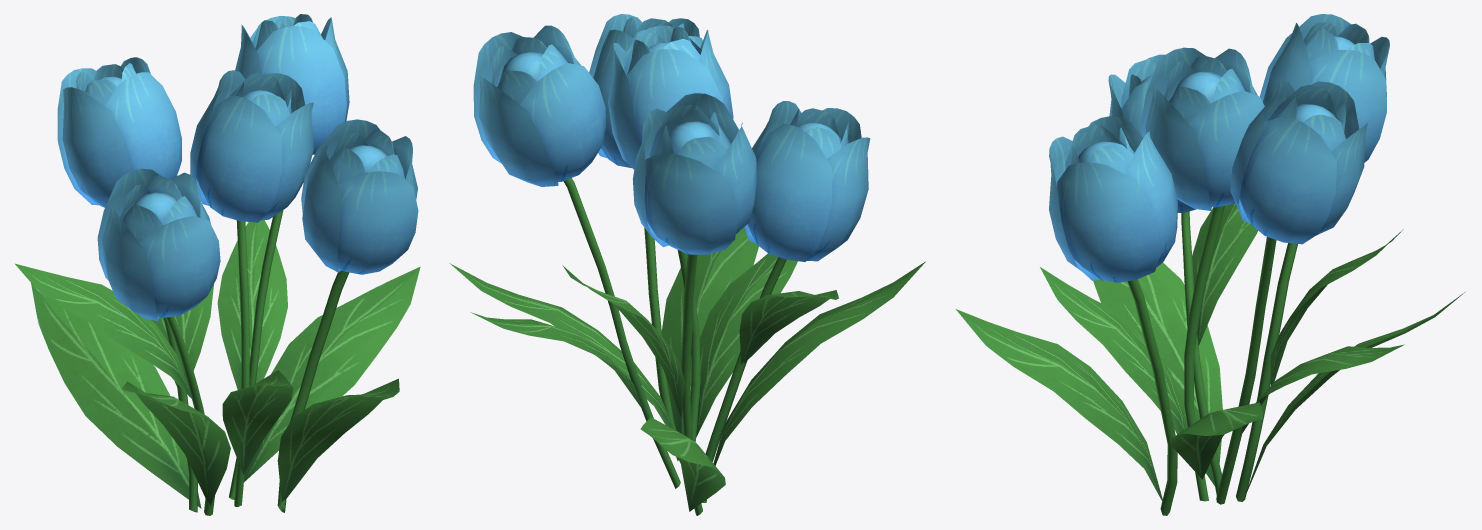
Rendered from MemoRoute_Tulip.fbx.
The picture shows the model from 3 angles, left to right: view 1: azimuth 30°, elevation 25°; view 2: azimuth 150°, elevation 25°; view 3: azimuth 270°, elevation 25°; orthographic projection. The views are drawn at different scales.
Visible parts, largest first — view 1: MemoRoute_Tulip; view 2: MemoRoute_Tulip; view 3: MemoRoute_Tulip.
Boxes of the visible parts, x1,y1,x2,y2 form: MemoRoute_Tulip: (15, 14, 420, 515); MemoRoute_Tulip: (449, 14, 925, 515); MemoRoute_Tulip: (956, 14, 1464, 515).
Bounding box in the file's own units: 7.2 × 7.93 × 7.69.
